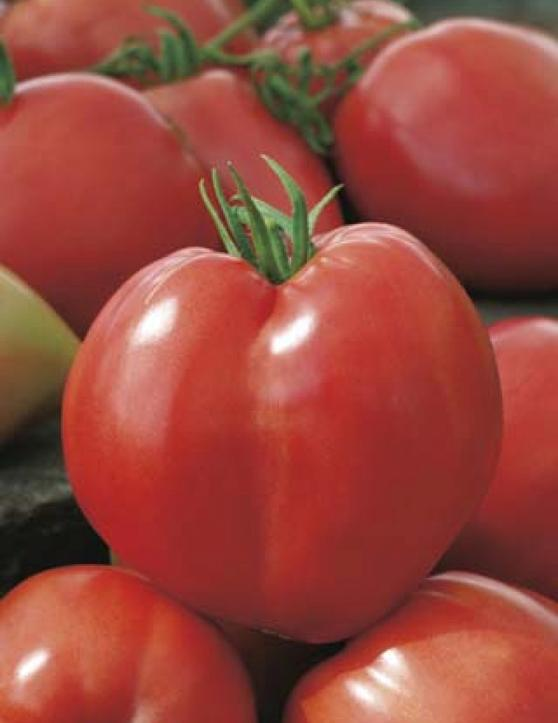tomato: (65, 167, 508, 645)
